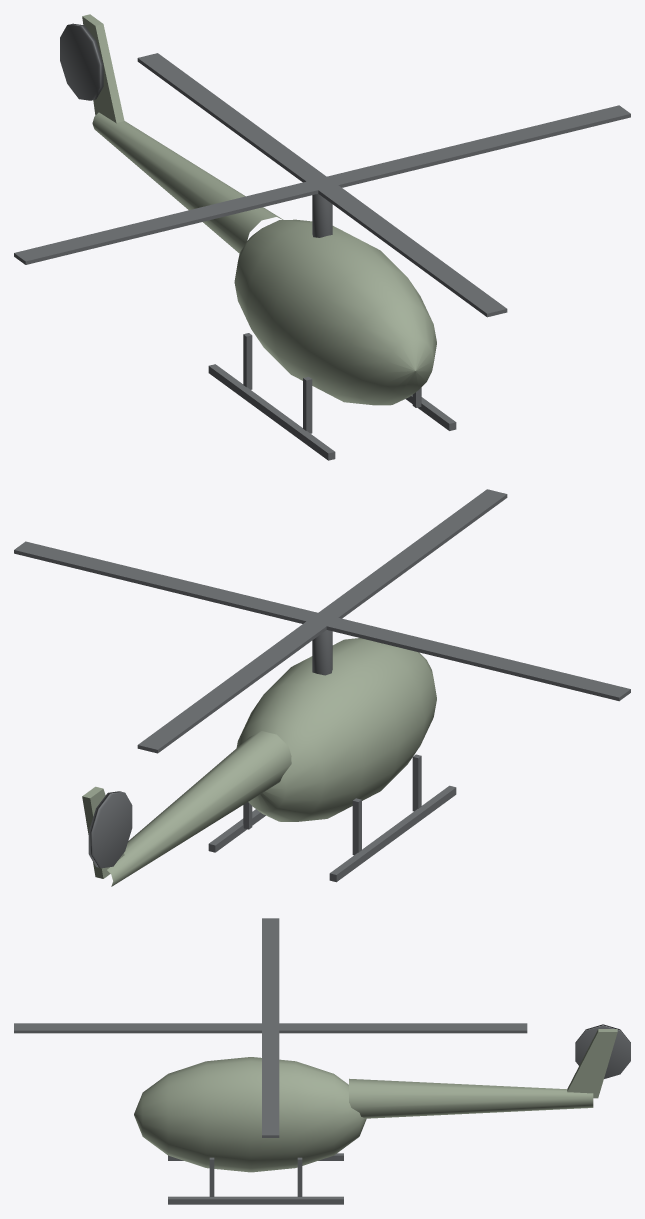
The model's file is helicopter.glb.
3 views of the same model, one above another, from view 1: azimuth 30°, elevation 25°; view 2: azimuth 150°, elevation 25°; view 3: azimuth 270°, elevation 25° (orthographic). The views are drawn at different scales.
Parts seen in each view (by area): view 1: helicopter; view 2: helicopter; view 3: helicopter.
Boxes of the visible parts, bbox=[...] form: helicopter: bbox=[14, 14, 630, 460]; helicopter: bbox=[14, 489, 630, 886]; helicopter: bbox=[14, 918, 630, 1204].
Size of the model in its own units: 10.5 by 3.49 by 12.62.
